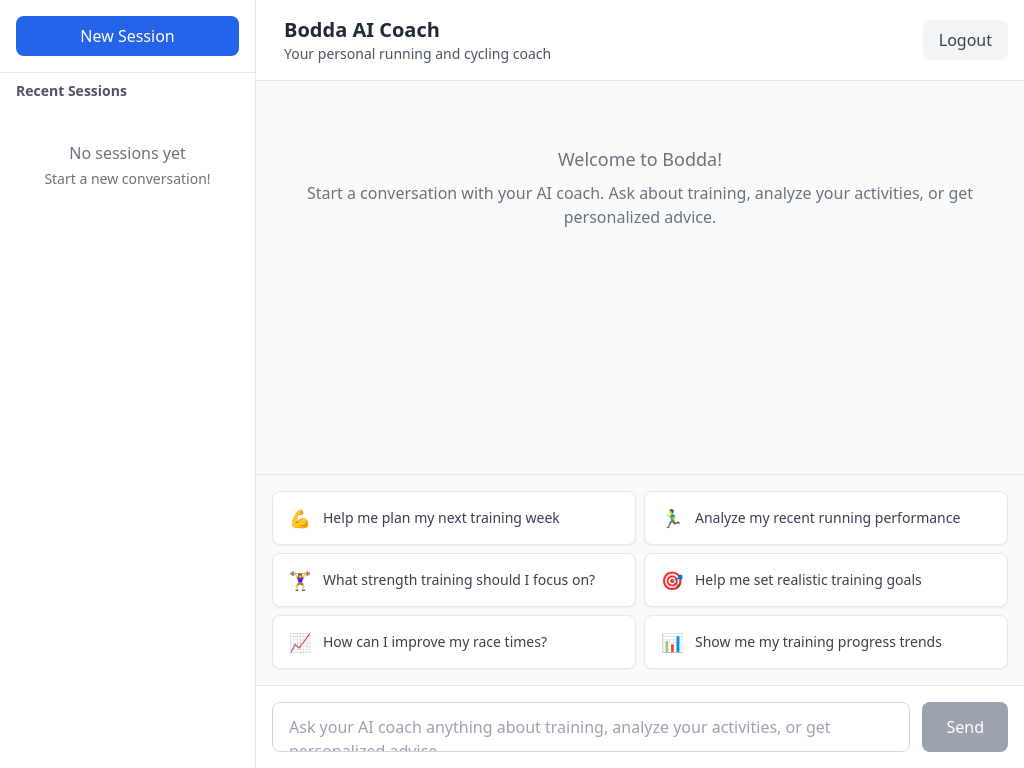
Scenario: ChatInterface - Suggestion Pills Integration › Input Population When Pills Are Clicked › populates input field with pill text when clicked - Requirements 2.1
Click the text "Help me plan my next training week" at (441, 517), box [323, 508, 560, 527]
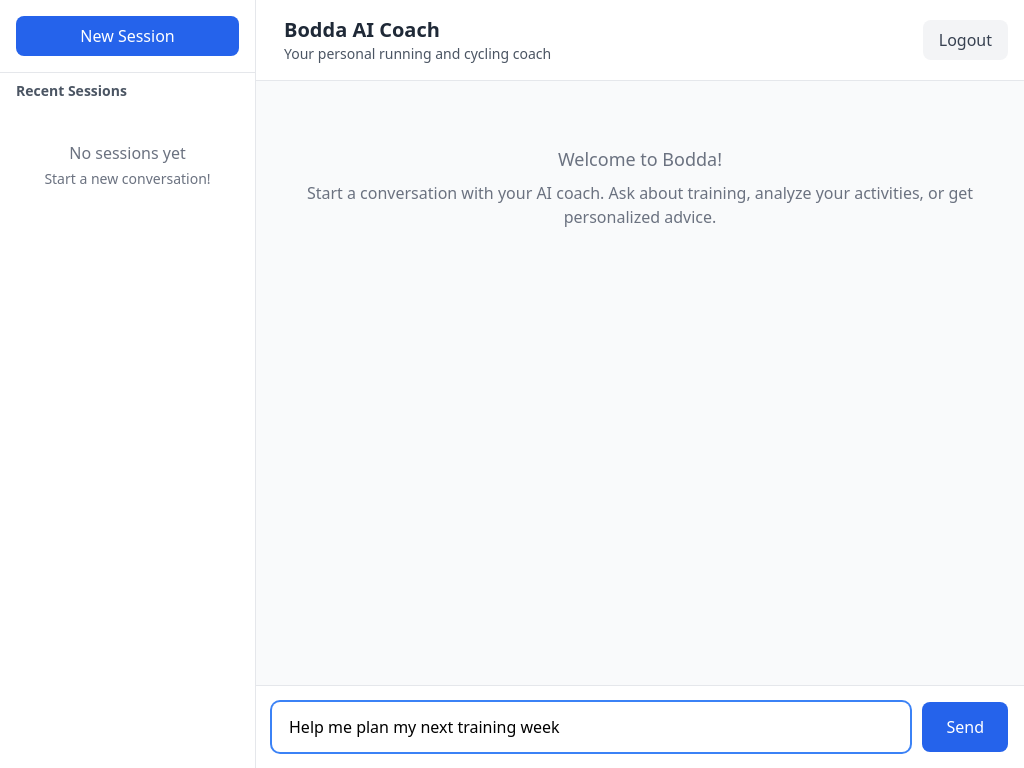
Now the text box with placeholder "Ask your AI coach" holds "Help me plan my next training week", box [272, 702, 910, 752]
